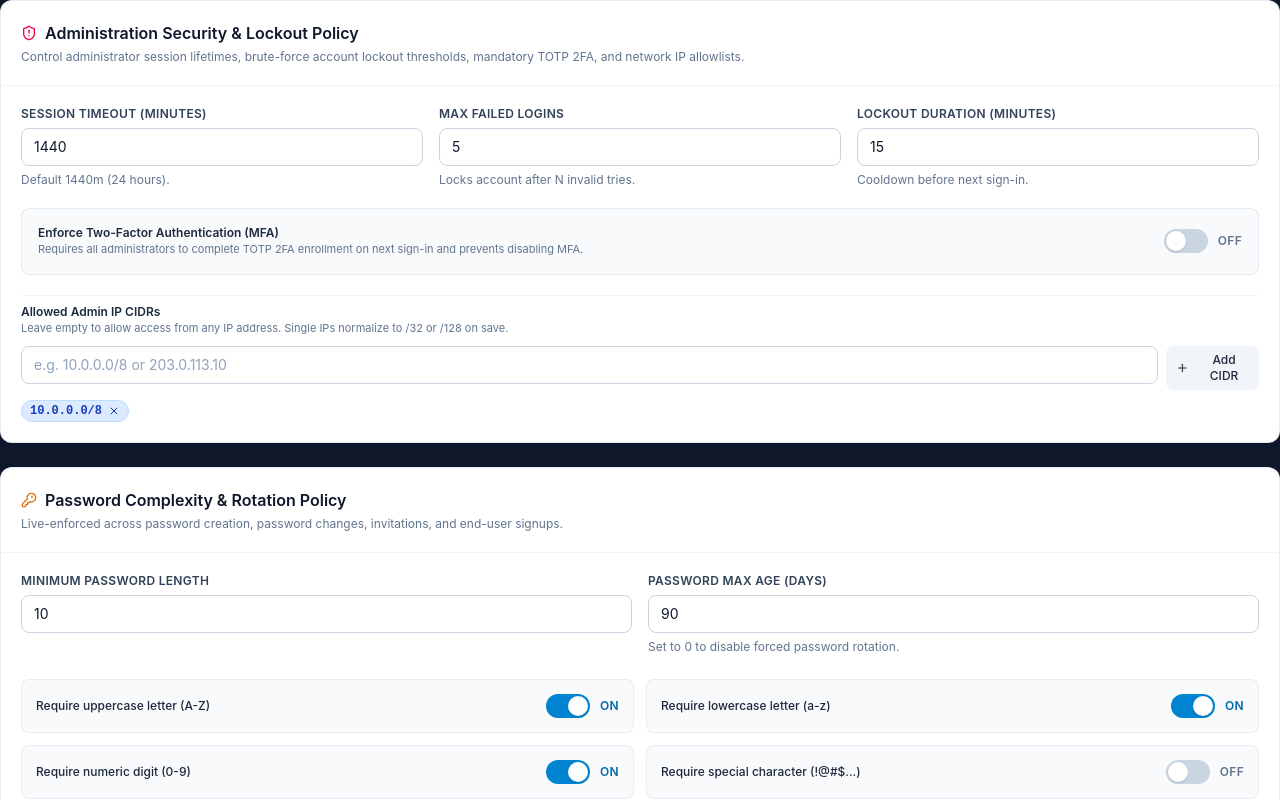
Test: M5 Security, SSO, MFA & Users-Permissions Views › renders SecurityAuthSettingsView and adds an Admin IP allowlist CIDR
Expected: the text "Allowed Admin IP CIDRs" is shown, [21,304,160,318]
Expected: the text "10.0.0.0/8" is shown, [30,403,102,419]
In the field with placeholder "e.g. 10.0.0.0/8 or 203.0.113.10": [590, 365] box [21,346,1158,384], type "192.168.1.0/24"
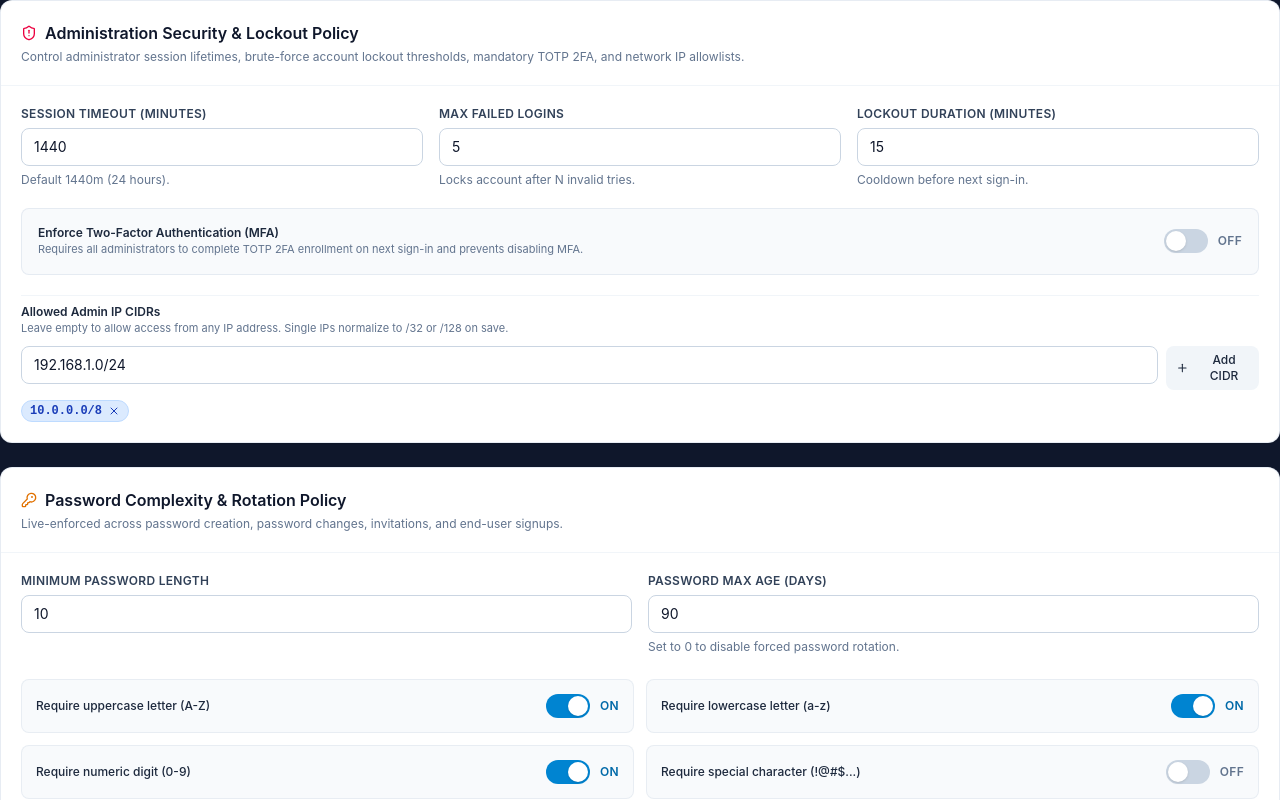
Click the button "Add CIDR": [1213, 368] box [1166,346,1259,390]
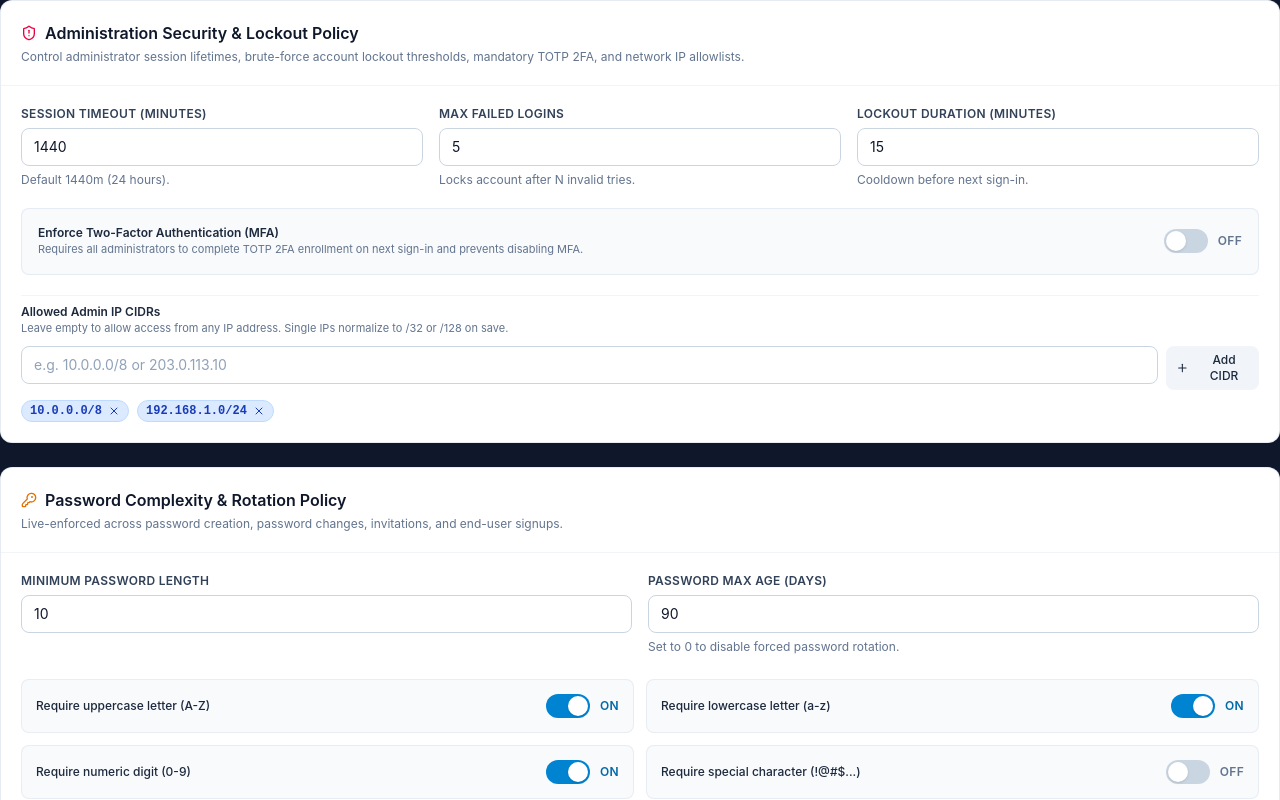
Expected: the text "192.168.1.0/24" is shown, [146,403,247,419]
